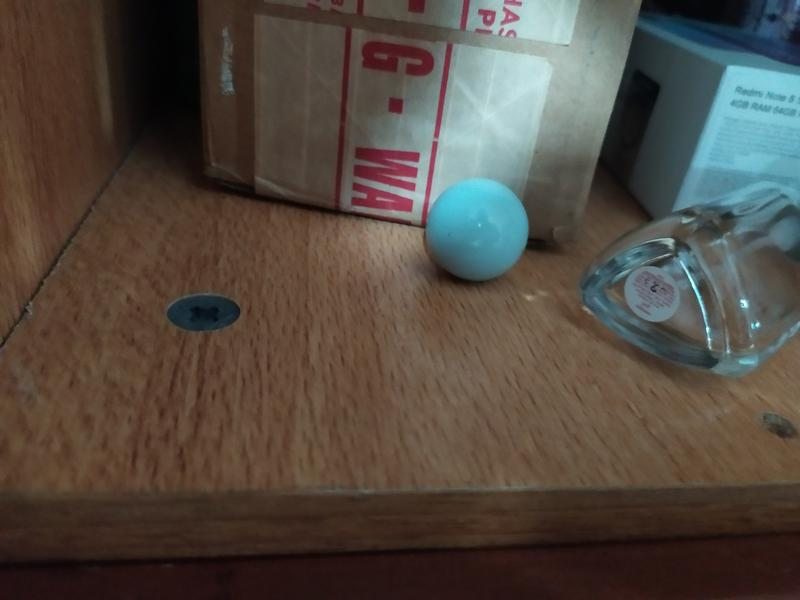Warning: (422, 175, 532, 285)
